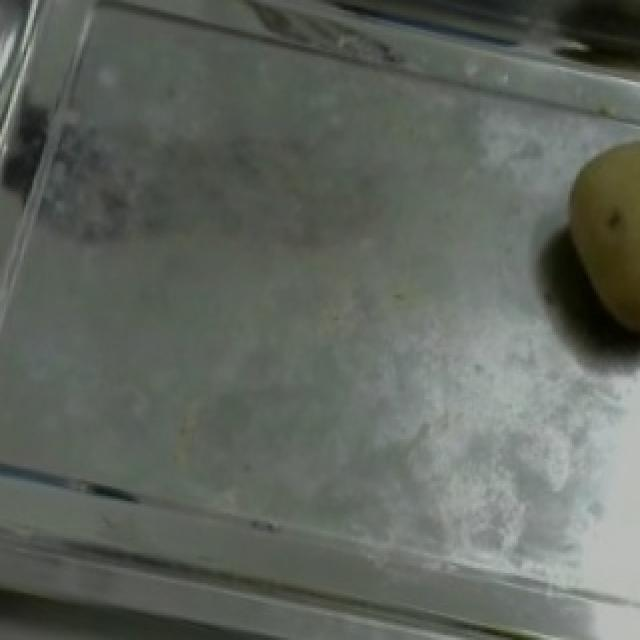Fruit: (536, 114, 640, 367)
